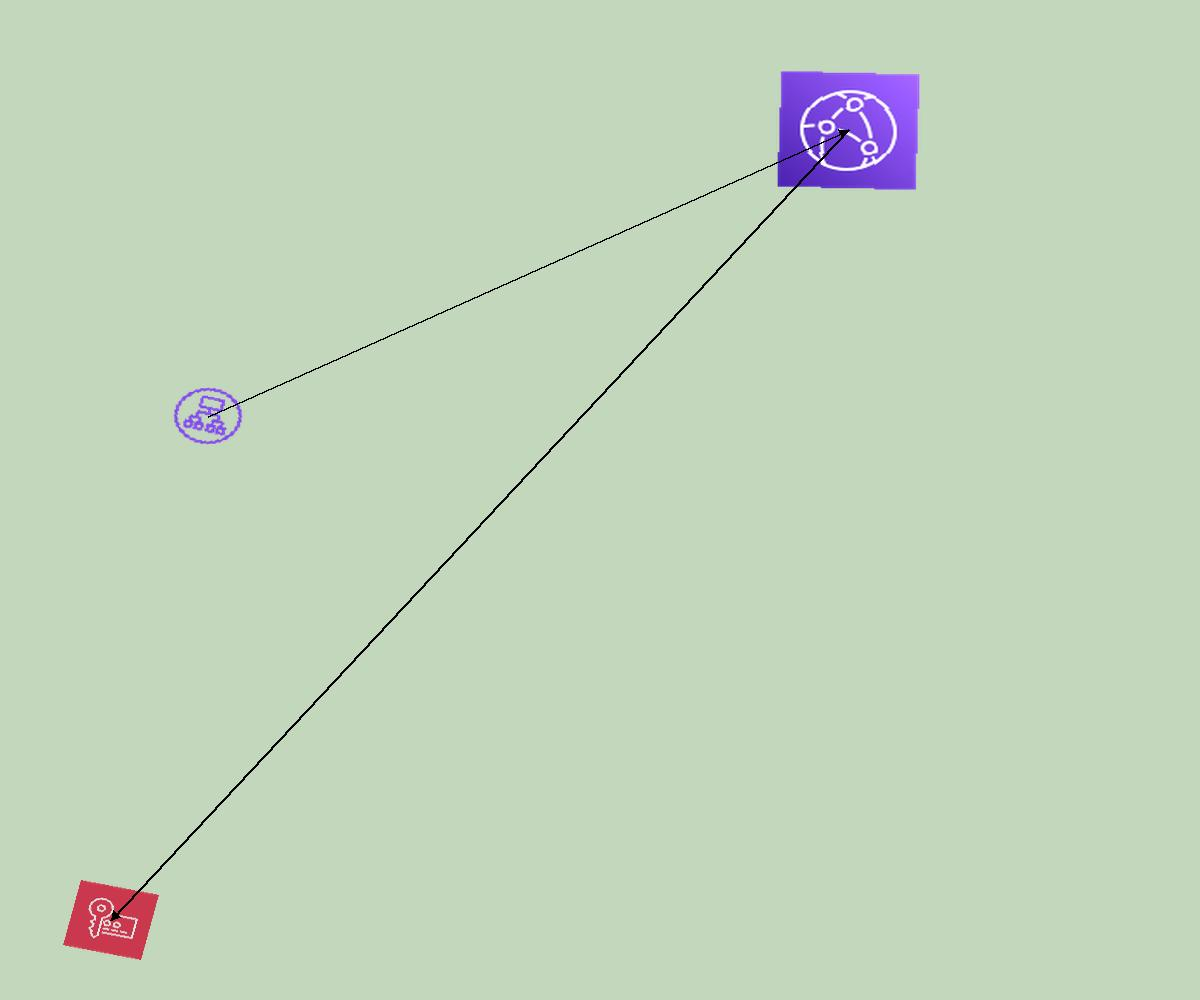AWS-CloudFront: (776, 70, 921, 191)
AWS-Key-Management-Service: (63, 880, 159, 960)
AWS-Res_Elastic-Load-Balancing_Application-Load-Balancer: (162, 378, 254, 454)
